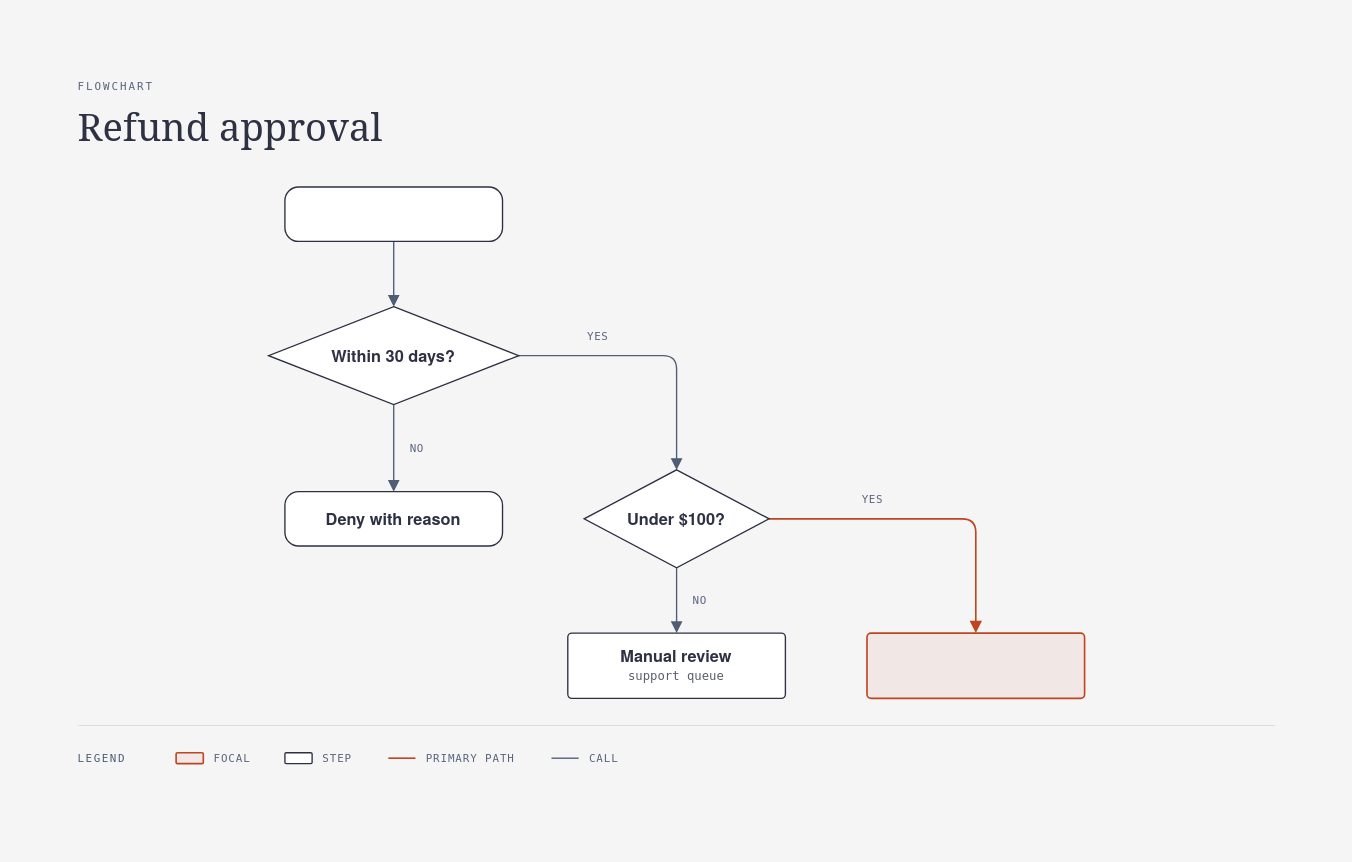
Some shapes in this 1352 by 862 pixel diagram are drawn without their labels. The shapes that lost their labels are listed below. From the top down, each one's box as (x1, y1, x2, y2) in pixels, then its label:
(284, 186, 503, 241): Refund requested
(866, 632, 1085, 698): Auto-approve refund-svc
